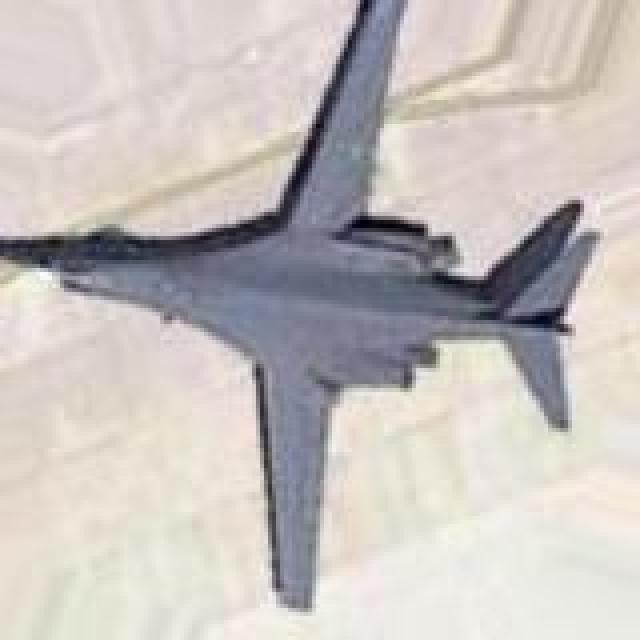B-1_TopDown: (0, 0, 604, 612)
